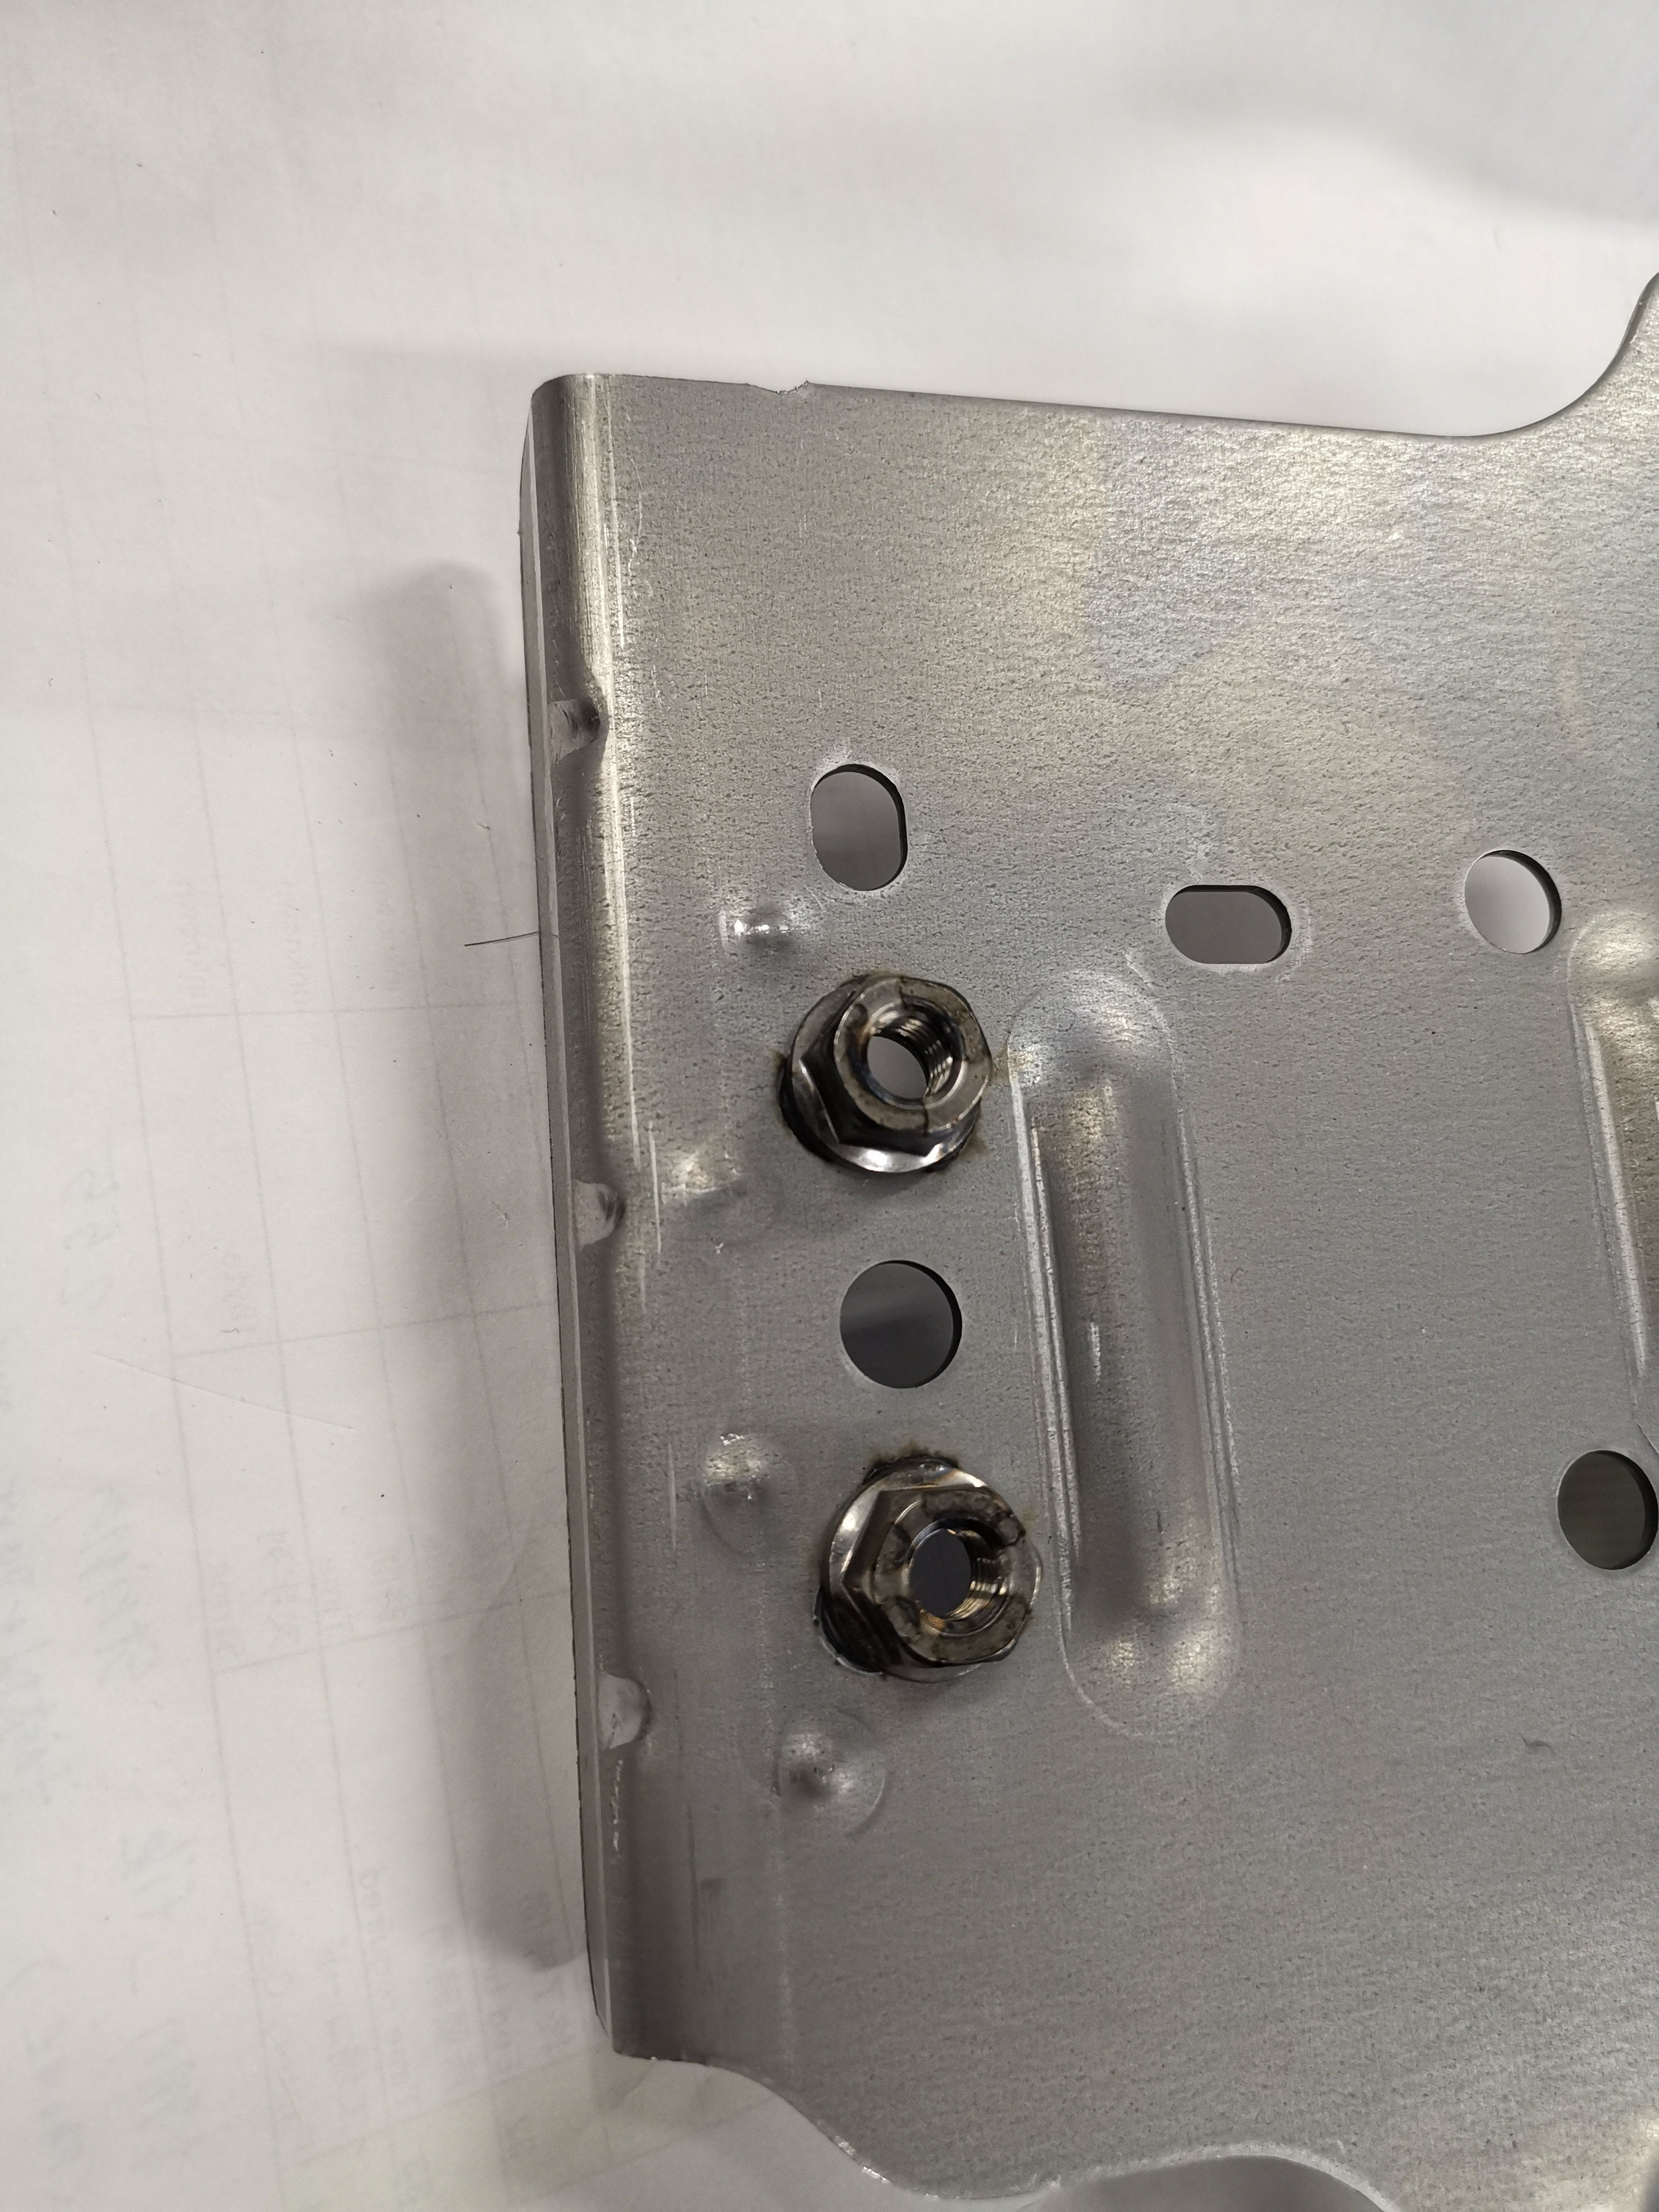dog: (805, 1447, 1046, 1688), (775, 960, 999, 1184)
